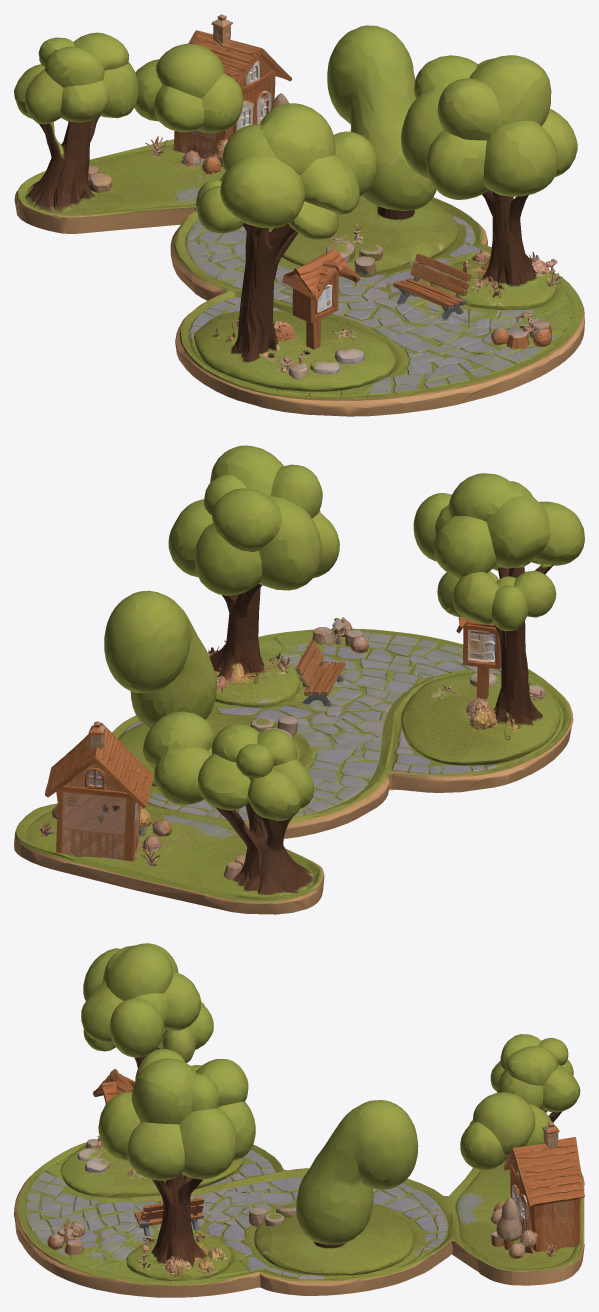
File: a5_strickler_park.glb
3 renders of one model, top to bottom at view 1: azimuth 30°, elevation 25°; view 2: azimuth 150°, elevation 25°; view 3: azimuth 270°, elevation 25°, orthographic. The views are drawn at different scales.
Bounding box in the file's own units: 1.24 × 0.8457 × 1.9.
1 material, 1 textured.
